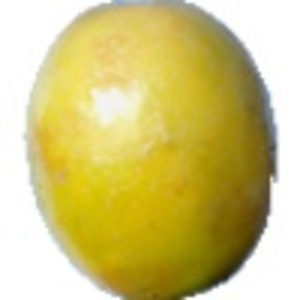maracujá: (25, 1, 280, 300)
